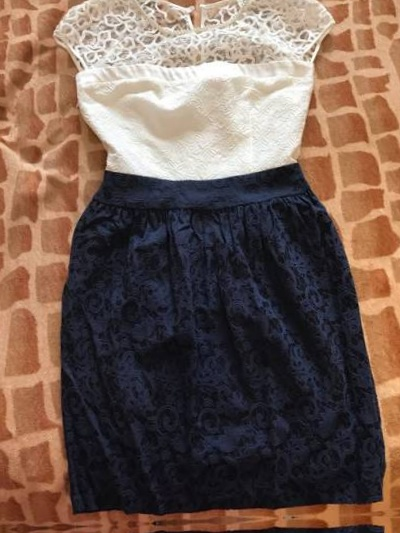Dress: (21, 0, 389, 519), (45, 523, 400, 533)
